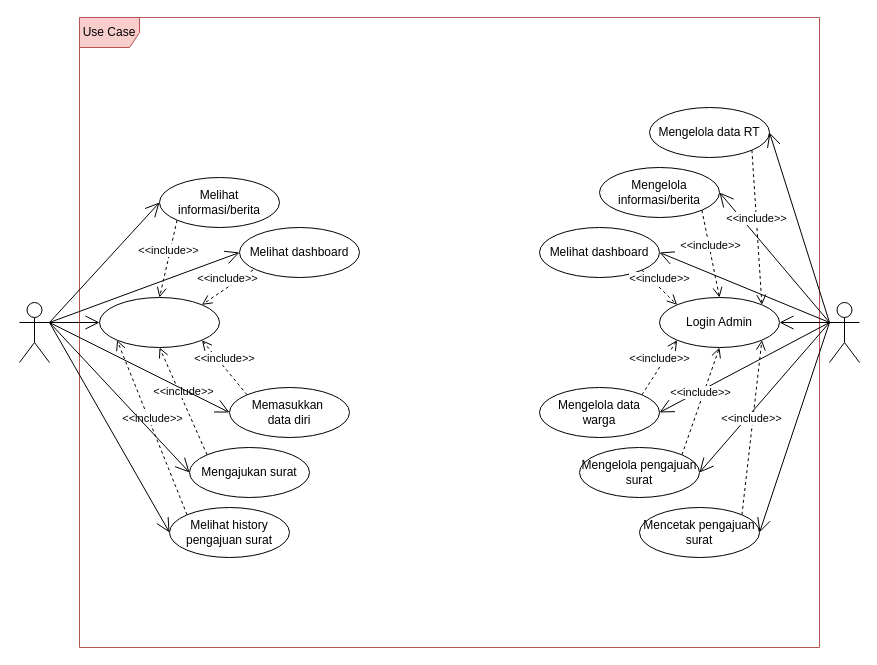
Image size: 877x665. Some labels were removed from this diagram. The box of each missing label's shape, as (x1, y1, x2, y2) in pixels:
Login Warga: (98, 296, 220, 348)
RT: (828, 302, 860, 362)
Warga: (18, 302, 50, 362)
